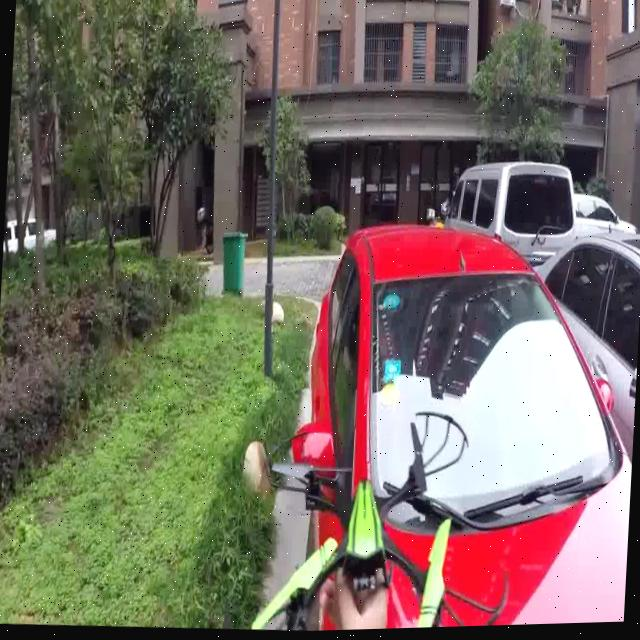drone: (245, 399, 518, 634)
